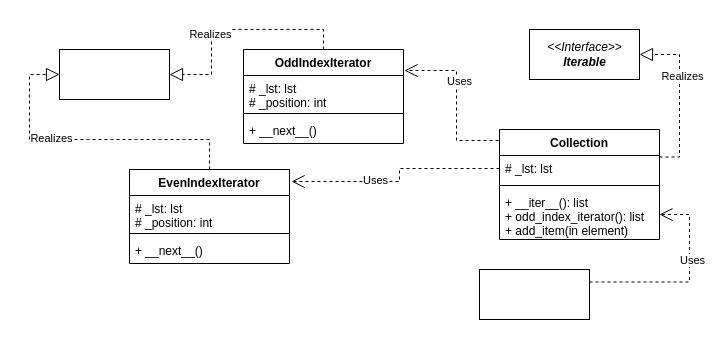
Some shapes in this 722 by 337 pixel diagram are drawn without their labels. The centre of each missing label's shape, as x and y in pixels:
"<<Interface>> Iterator" goes at point 114,74.
"Client" goes at point 534,294.
